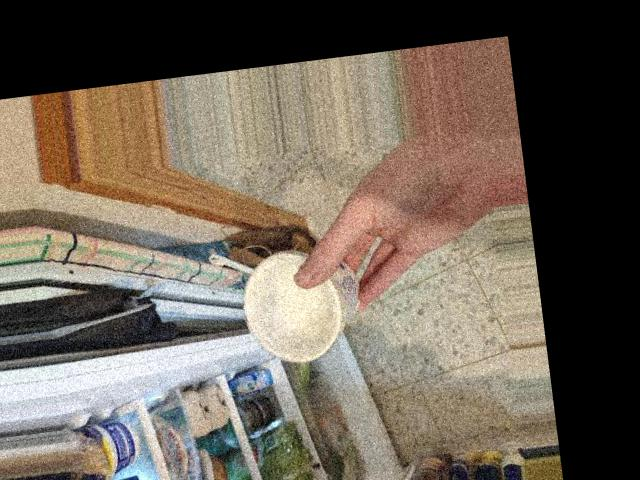cotage: (232, 238, 365, 348)
